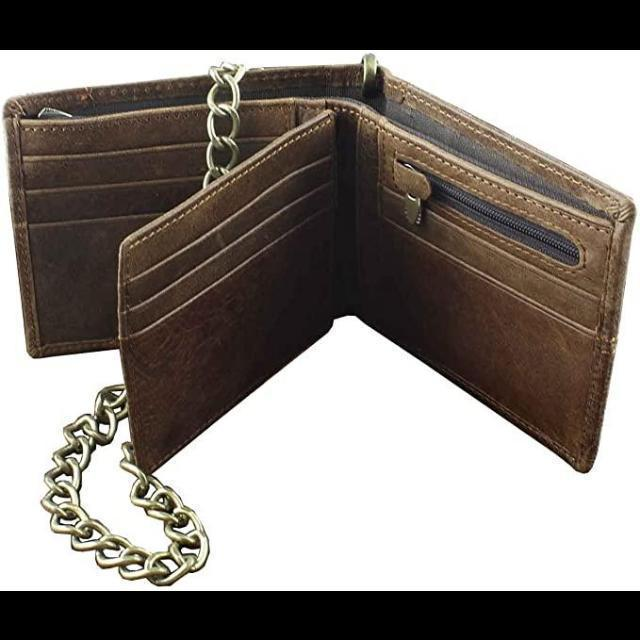wallet: (4, 52, 632, 488)
